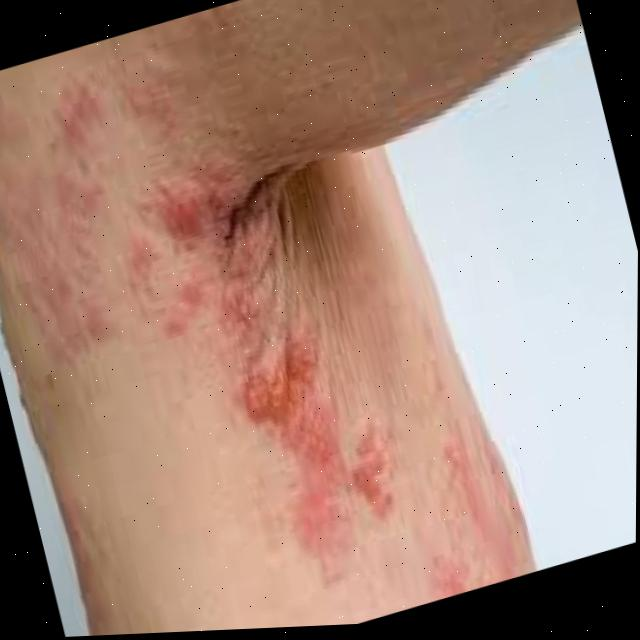Eczema: (0, 71, 232, 351), (216, 241, 431, 527)
